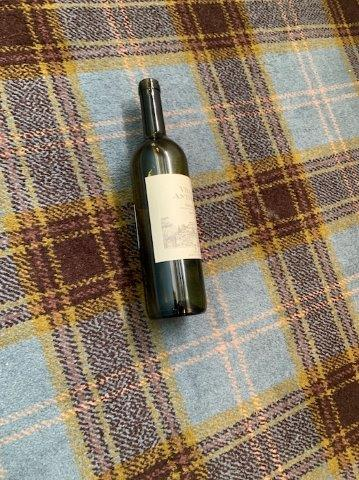botolkaca: (130, 78, 206, 317)
